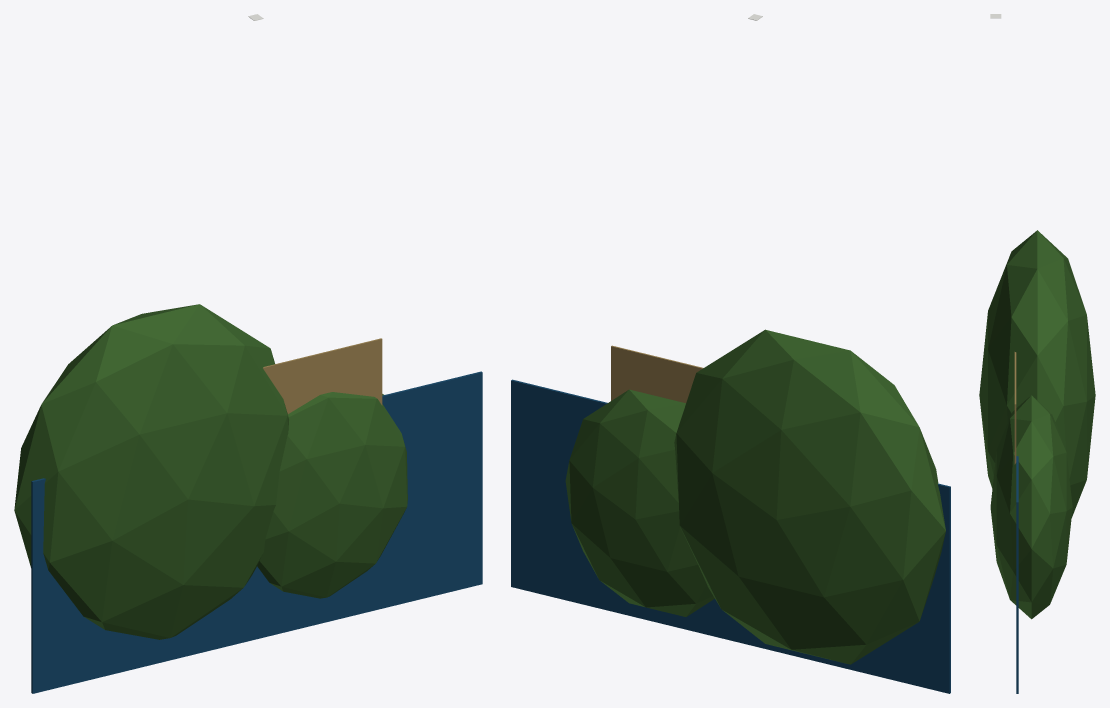
The model's file is entorno_costa.obj.
3 renders of one model, left to right at view 1: azimuth 30°, elevation 25°; view 2: azimuth 150°, elevation 25°; view 3: azimuth 270°, elevation 25°, orthographic. The views are drawn at different scales.
Visible parts, largest first — view 1: Export_Costa; view 2: Export_Costa; view 3: Export_Costa.
Boxes of the visible parts, left/top/right/bottom form: Export_Costa: left=14, top=14, right=482, bottom=693; Export_Costa: left=511, top=14, right=950, bottom=693; Export_Costa: left=979, top=14, right=1095, bottom=693.
Bounding box in the file's own units: 40.6 × 53.81 × 9.9.
